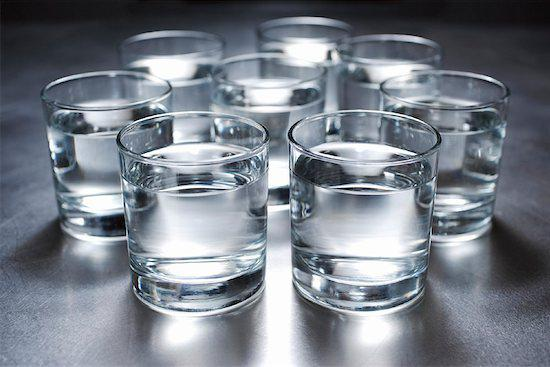glass of water: (116, 111, 268, 307), (290, 110, 437, 308), (42, 71, 173, 237), (382, 74, 502, 227), (216, 57, 320, 200), (129, 39, 222, 139)
